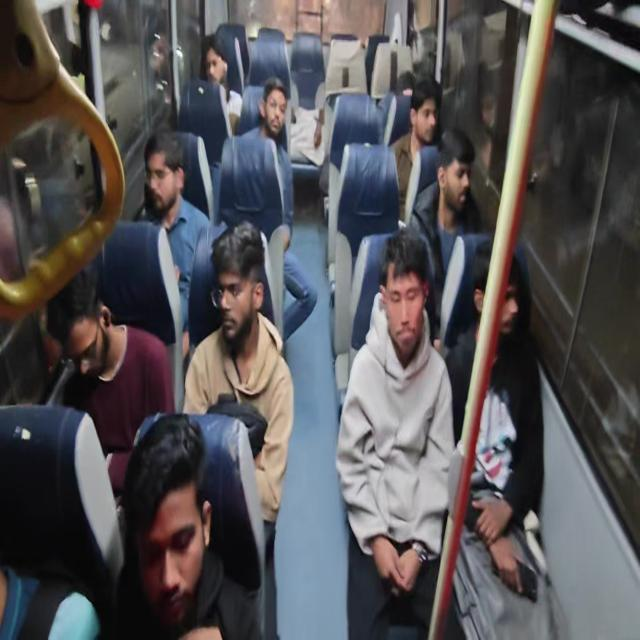person: (119, 400, 213, 632), (44, 256, 124, 376), (469, 233, 529, 353), (214, 222, 268, 350), (382, 230, 432, 361), (142, 127, 186, 221), (410, 82, 445, 150), (201, 27, 232, 97), (258, 71, 288, 135), (394, 62, 415, 100)
